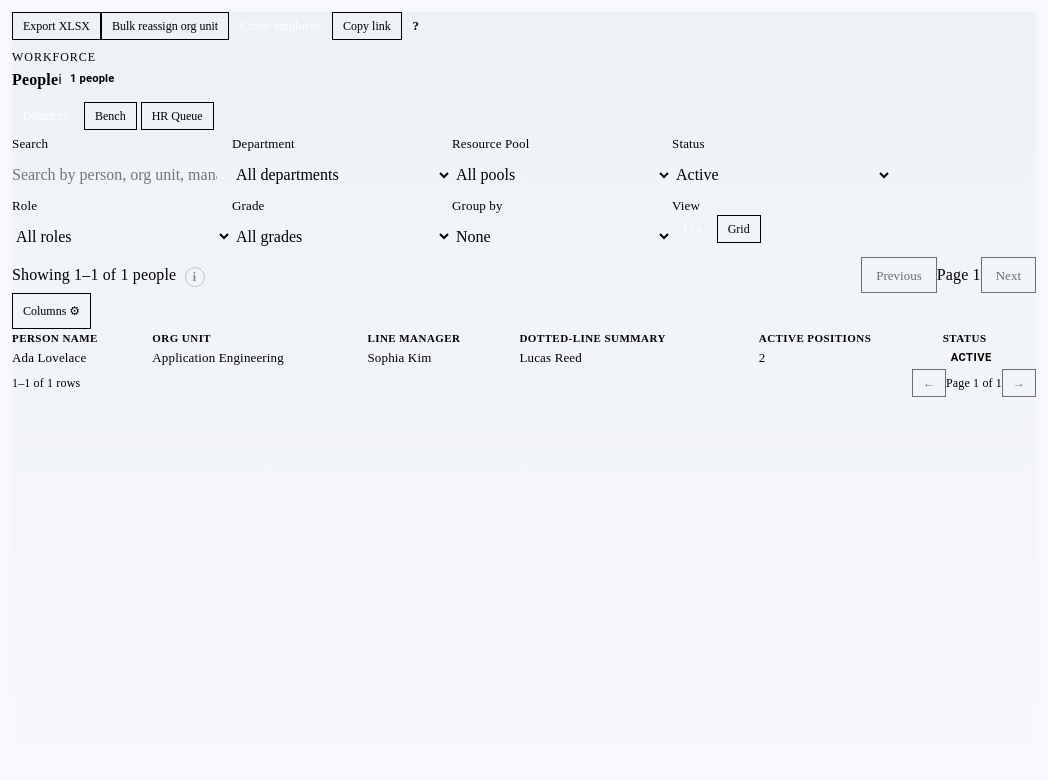
Scenario: EmployeeDirectoryPage › V2 issue 179: inspector close button hides the drawer and keeps the user on the directory
The width and height of the screenshot is (1048, 780).
Click the text "Ada Lovelace".
click(82, 358)  # box x1=12 y1=347 x2=152 y2=369
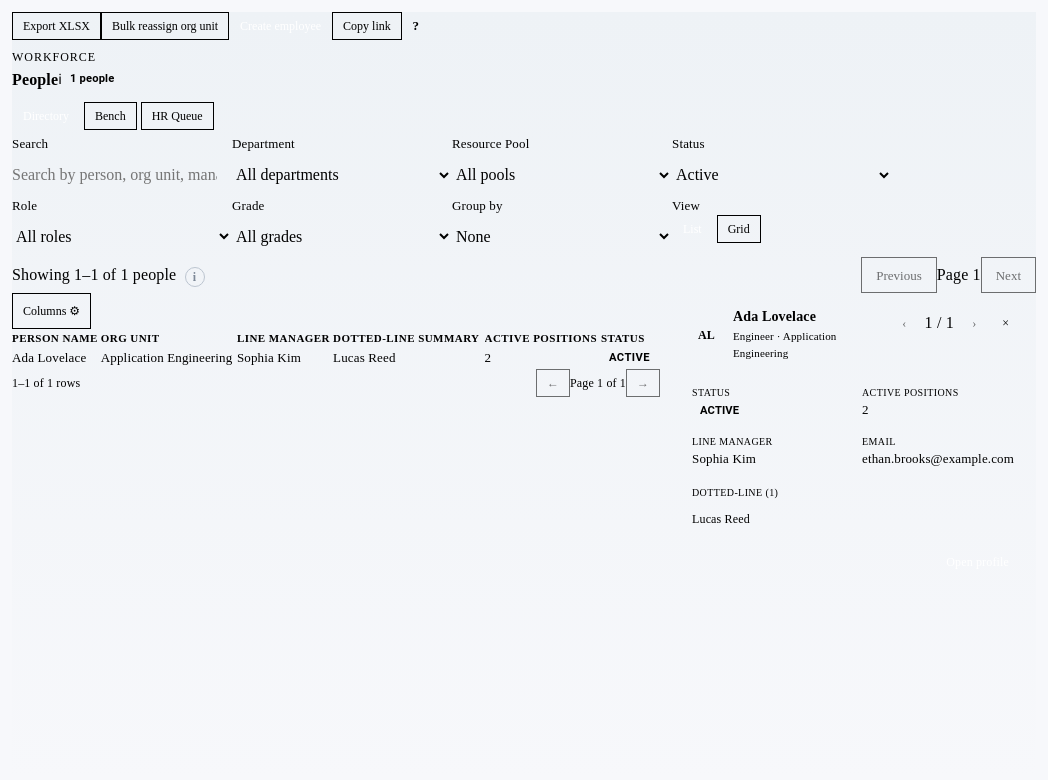
Now the element with test id "person-directory-inspector" is shown, box x1=676 y1=293 x2=1036 y2=592
Click the button named "close inspector".
click(1006, 323)  # box x1=991 y1=309 x2=1020 y2=337
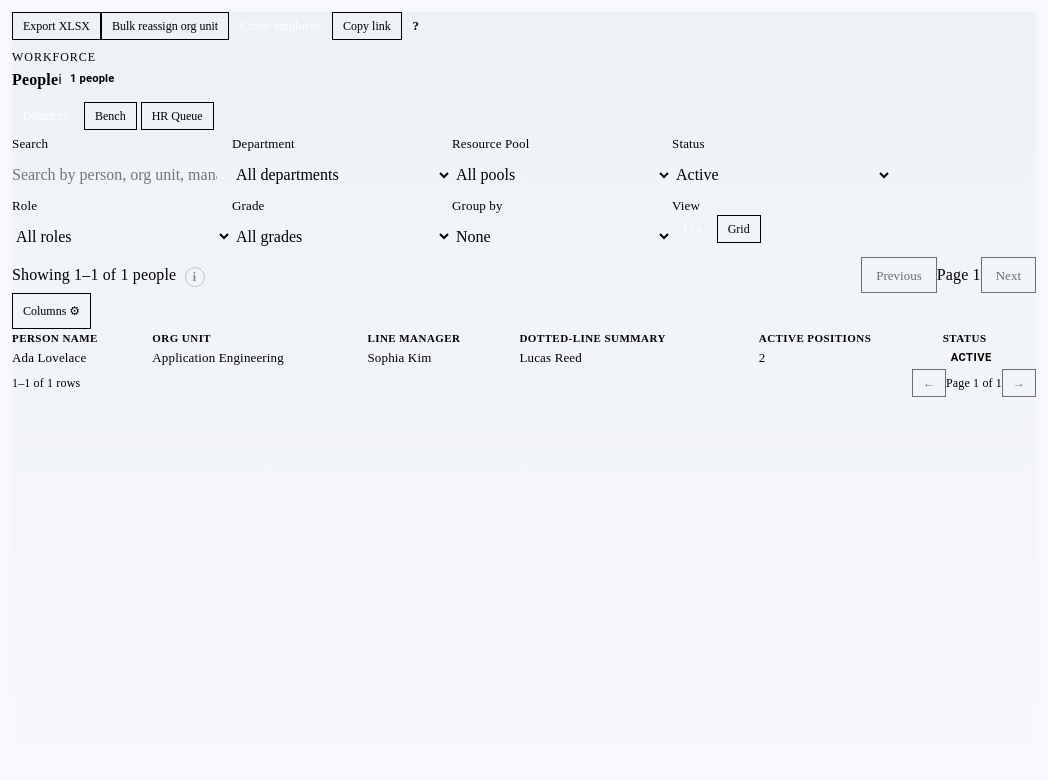
Now the element with test id "person-directory-inspector" is gone
